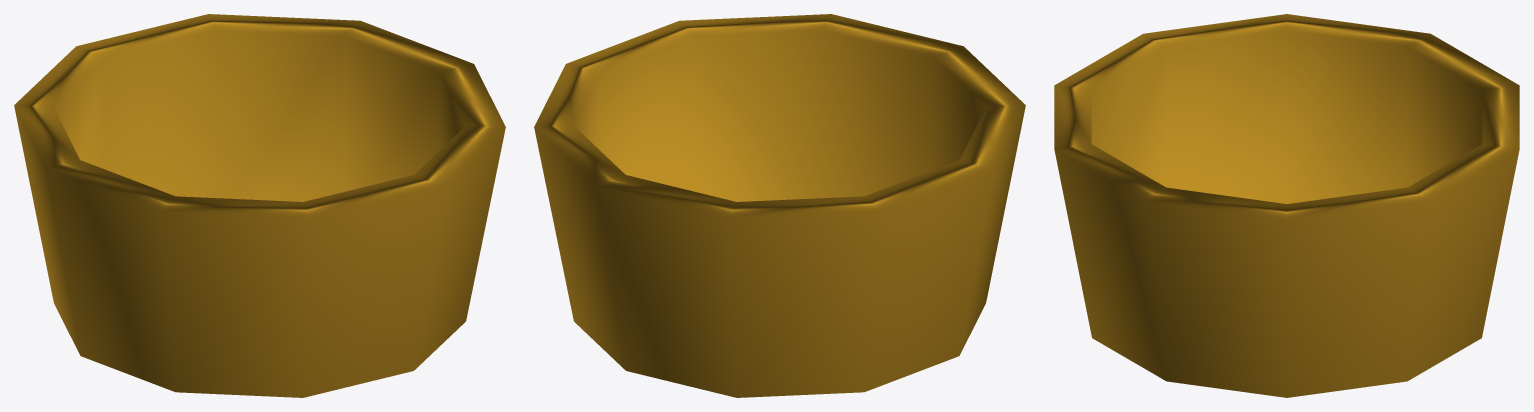
File: bowl.fbx
3 views of the same model, side by side, from view 1: azimuth 30°, elevation 25°; view 2: azimuth 150°, elevation 25°; view 3: azimuth 270°, elevation 25° (orthographic).
Visible parts, largest first — view 1: kitchen_bowl; view 2: kitchen_bowl; view 3: kitchen_bowl.
Part boxes in pixels (left/top/right/bottom): kitchen_bowl: left=14, top=14, right=505, bottom=397; kitchen_bowl: left=534, top=14, right=1025, bottom=397; kitchen_bowl: left=1054, top=14, right=1519, bottom=397.
Size of the model in its own units: 0.3551 by 0.1554 by 0.3377.
